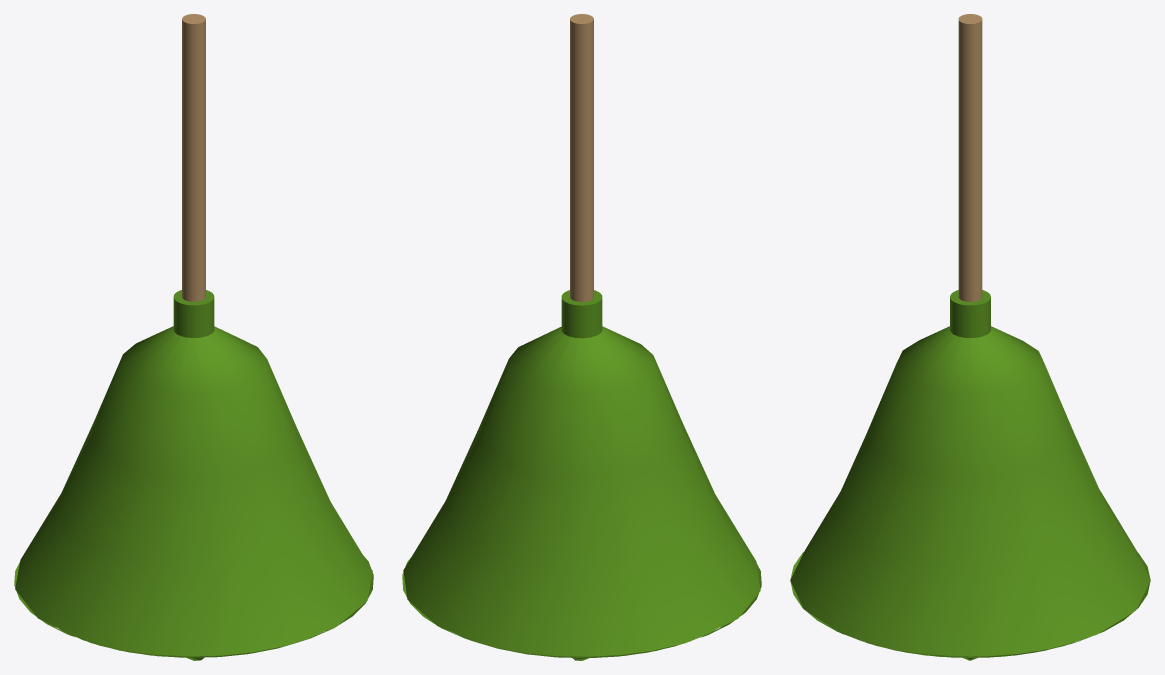
The model's file is 3DModel_Bell.fbx.
3 views of the same model, side by side, from view 1: azimuth 30°, elevation 25°; view 2: azimuth 150°, elevation 25°; view 3: azimuth 270°, elevation 25° (orthographic).
Parts seen in each view (by area): view 1: Object_5, Object_1, Object_2, Object_4; view 2: Object_5, Object_1, Object_2, Object_4; view 3: Object_5, Object_1, Object_2, Object_4.
Boxes of the visible parts, x1,y1,x2,y2 form: Object_5: (15,326,372,655); Object_1: (182,14,205,301); Object_2: (173,290,214,337); Object_4: (14,555,373,657); Object_5: (403,326,760,655); Object_1: (570,14,593,301); Object_2: (561,290,602,338); Object_4: (402,558,761,658); Object_5: (790,326,1150,656); Object_1: (958,14,982,301); Object_2: (950,290,990,338); Object_4: (790,552,1150,657).
Size of the model in its own units: 7.8 by 15.33 by 7.8.
